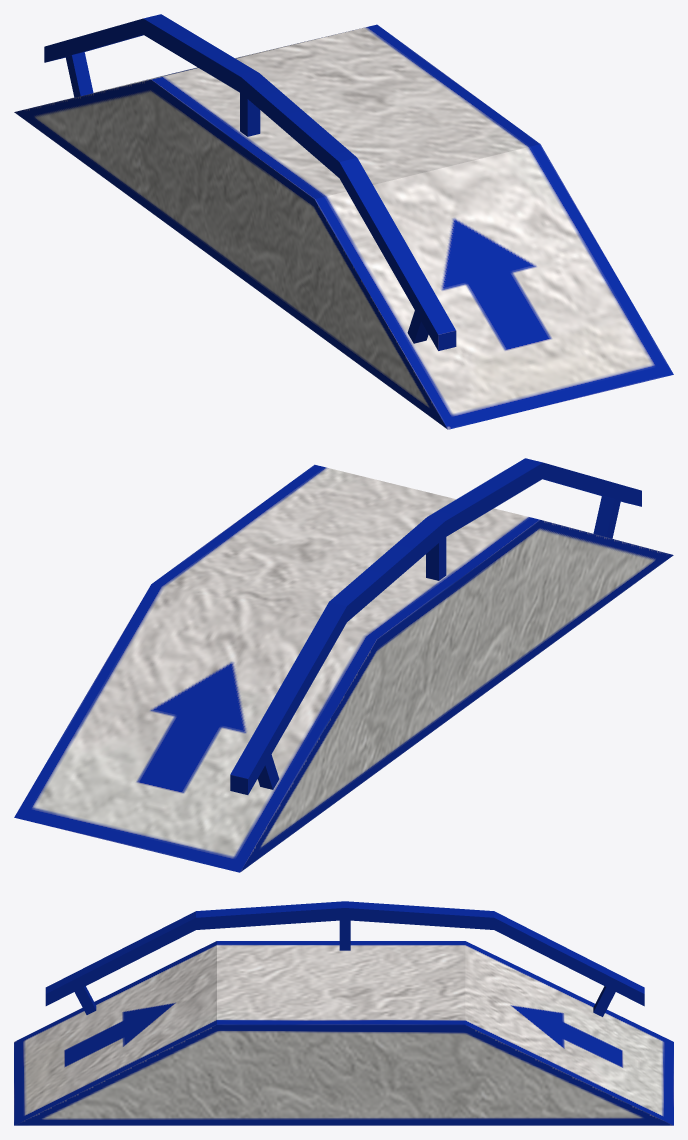
File: Ramp2_Mesh.fbx
3 renders of one model, top to bottom at view 1: azimuth 30°, elevation 25°; view 2: azimuth 150°, elevation 25°; view 3: azimuth 270°, elevation 25°, orthographic. The views are drawn at different scales.
Visible parts, largest first — view 1: Ramp2_Mesh; view 2: Ramp2_Mesh; view 3: Ramp2_Mesh.
Part boxes in pixels (x1,y1,x2,y2): Ramp2_Mesh: (14,14,673,429); Ramp2_Mesh: (14,458,673,872); Ramp2_Mesh: (14,901,673,1125).
Size of the model in its own units: 293 by 236 by 976.
